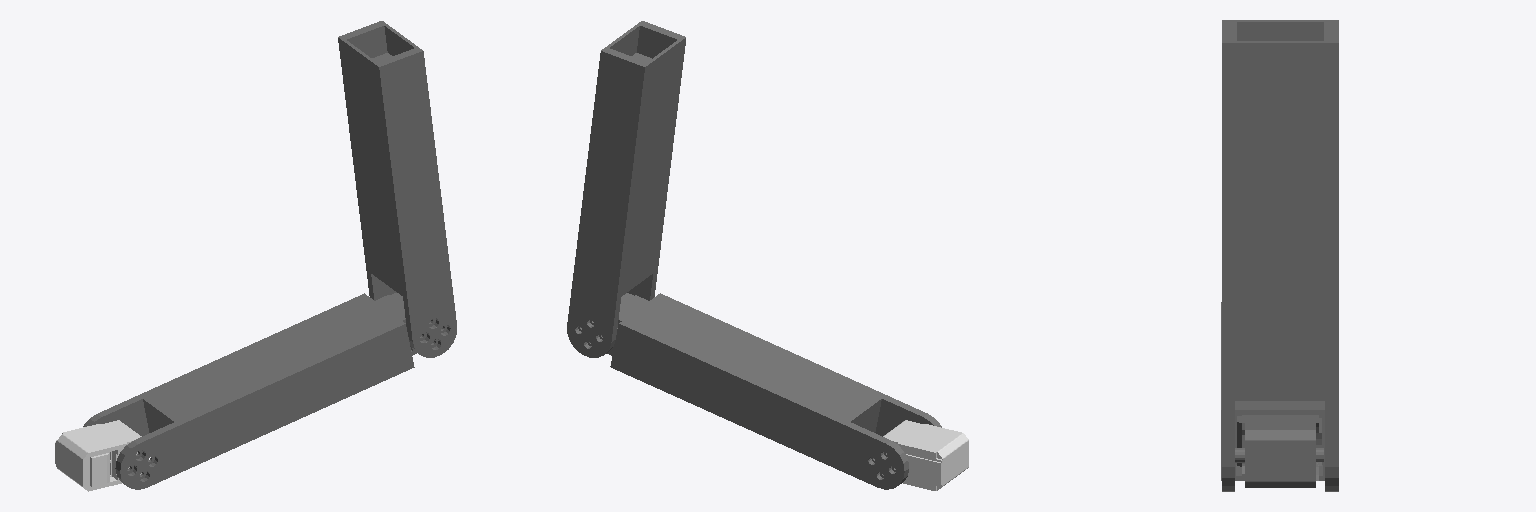
robot.urdf — URDF_TEST:
<?xml version="1.0" encoding="utf-8"?>
<robot name="URDF_TEST">

  <link name="world"/>

  <joint name="world_joint" type="fixed">
    <parent link="world"/>
    <child link="base_link"/>
    <origin xyz="0 0 0" rpy="-1.5708 0 0" />
  </joint>

  <link name="base_link">
    <inertial>
      <origin xyz="-0.000645793843215106 8.71695978389103E-08 0.0147350107290846" rpy="0 0 0" />
      <mass value="0.0335207099181062" />
      <inertia ixx="4.41139390654796E-06" ixy="3.56250430034443E-12" ixz="8.87745353970774E-09" iyy="8.32485532063833E-06" iyz="2.23532303908563E-11" izz="7.20335041780353E-06" />
    </inertial>
    <visual>
      <origin xyz="0 0 0" rpy="0 0 0" />
      <geometry>
        <mesh filename="package://URDF_TEST/meshes/base_link.STL" />
      </geometry>
      <material name="">
        <color rgba="0.894117647058823 0.894117647058823 0.894117647058823 1" />
      </material>
    </visual>
    <collision>
      <origin xyz="0 0 0" rpy="0 0 0" />
      <geometry>
        <mesh filename="package://URDF_TEST/meshes/base_link.STL" />
      </geometry>
    </collision>
  </link>

  <link name="Shoulder">
    <inertial>
      <origin xyz="0.104592398421891 0.0144881541690397 -9.19962008178246E-09" rpy="0 0 0" />
      <mass value="0.317620381081503" />
      <inertia ixx="8.66318309042387E-05" ixy="8.20843297389186E-07" ixz="-3.56250424295255E-12" iyy="0.00062549826385263" iyz="-2.23532303699943E-11" izz="0.000665445067085684" />
    </inertial>
    <visual>
      <origin xyz="0 0 0" rpy="0 0 0" />
      <geometry>
        <mesh filename="package://URDF_TEST/meshes/Shoulder.STL" />
      </geometry>
      <material name="">
        <color rgba="0.498039215686275 0.498039215686275 0.498039215686275 1" />
      </material>
    </visual>
    <collision>
      <origin xyz="0 0 0" rpy="0 0 0" />
      <geometry>
        <mesh filename="package://URDF_TEST/meshes/Shoulder.STL" />
      </geometry>
    </collision>
  </link>

  <joint name="Shoulder JNT" type="revolute">
    <origin xyz="0.0125 0 0" rpy="1.5708 0 -0.19439" />
    <parent link="base_link" />
    <child link="Shoulder" />
    <axis xyz="0 1 0" />
    <limit lower="-1.57" upper="1.57" effort="10" velocity="3" />
  </joint>

  <link name="Elbow">
    <inertial>
      <origin xyz="0.0948869785613907 0.0146751203775783 0" rpy="0 0 0" />
      <mass value="0.284099671163396" />
      <inertia ixx="8.22204369976897E-05" ixy="8.11965843849715E-07" ixz="4.64174055095357E-19" iyy="0.000618294913434826" iyz="2.09640654445439E-20" izz="0.000657120211765044" />
    </inertial>
    <visual>
      <origin xyz="0 0 0" rpy="0 0 0" />
      <geometry>
        <mesh filename="package://URDF_TEST/meshes/Elbow.STL" />
      </geometry>
      <material name="">
        <color rgba="0.498039215686275 0.498039215686275 0.498039215686275 1" />
      </material>
    </visual>
    <collision>
      <origin xyz="0 0 0" rpy="0 0 0" />
      <geometry>
        <mesh filename="package://URDF_TEST/meshes/Elbow.STL" />
      </geometry>
    </collision>
  </link>

  <joint name="Elbow JNT" type="revolute">
    <origin xyz="0.2 0 0" rpy="0 -1.5003 0" />
    <parent link="Shoulder" />
    <child link="Elbow" />
    <axis xyz="0 1 0" />
    <limit lower="-1.57" upper="1.57" effort="10" velocity="3" />
  </joint>

</robot>

--- Facts derived from the render (not from the file) ---
Views: 3 orthographic renders of the robot side by side, from view 1: azimuth 30°, elevation 25°; view 2: azimuth 150°, elevation 25°; view 3: azimuth 270°, elevation 25°.
Robot: URDF_TEST — 4 links, 3 joints (2 revolute, 1 fixed); root link world; default pose: every joint at zero.
Links seen in each view (by area): view 1: Shoulder, Elbow, base_link; view 2: Shoulder, Elbow, base_link; view 3: Elbow, Shoulder.
Link boxes in pixels (x1,y1,x2,y2): Shoulder: (83,293,442,489); Elbow: (338,21,456,357); base_link: (55,420,141,491); Shoulder: (607,293,941,489); Elbow: (567,21,685,357); base_link: (883,420,968,490); Elbow: (1222,20,1338,491); Shoulder: (1221,302,1324,487).
Size in the robot's own frame: 0.2462 by 0.0482 by 0.2368 metres.
3 mesh visuals loaded from 3 distinct referenced files (3 binary STL).
